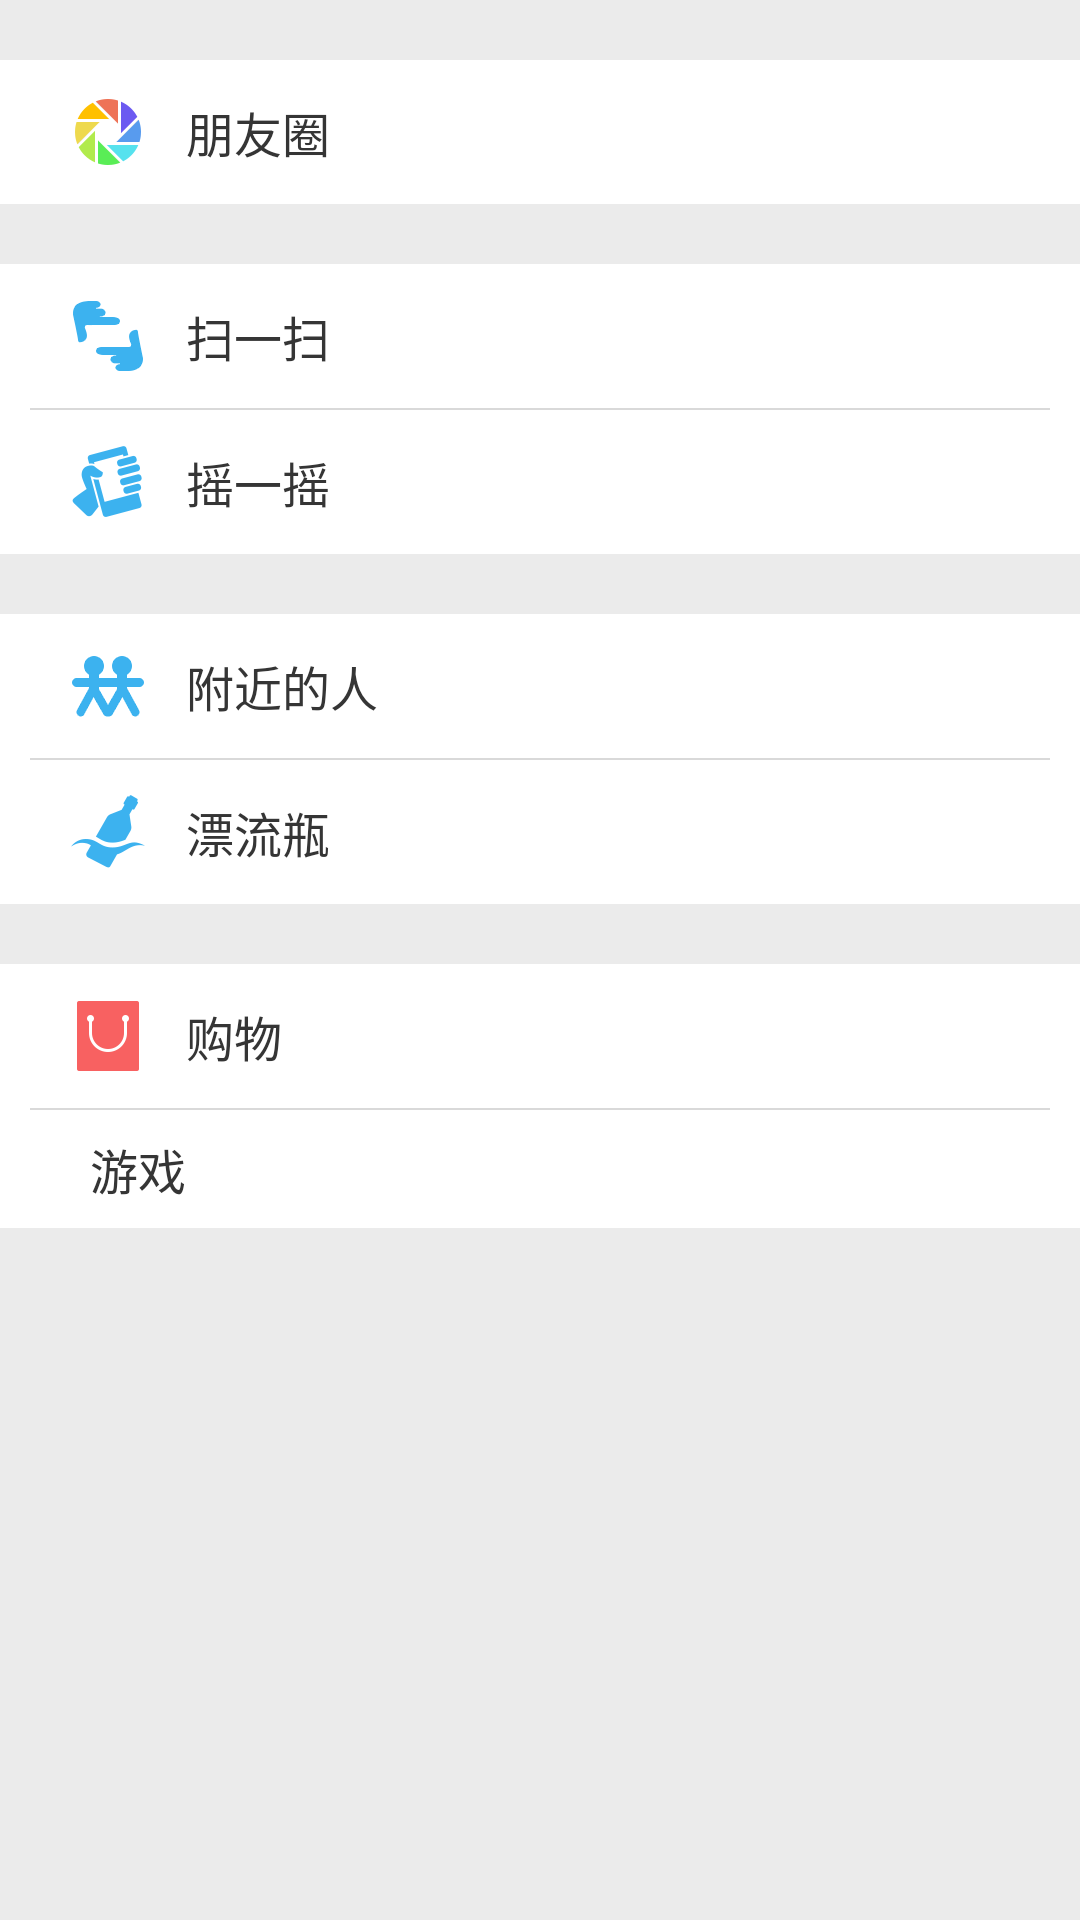

Where icons sit on this 1080 x 1920 app screen, as (x1, y1, x2, y2):
cgt find driftbottle: (71, 795, 145, 868)
cgt find nearbypeople: (72, 656, 144, 717)
cgt find shake: (72, 446, 142, 517)
cgt find shopping: (77, 1001, 139, 1071)
cgt find sweep: (73, 301, 143, 371)
